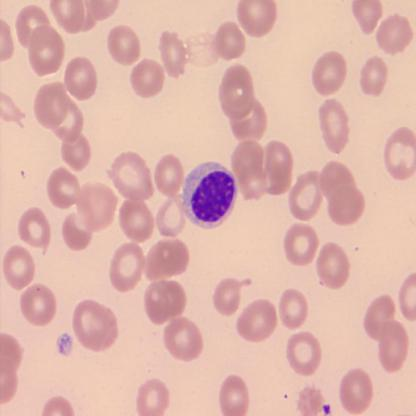Myelocyte: (183, 160, 240, 227)
